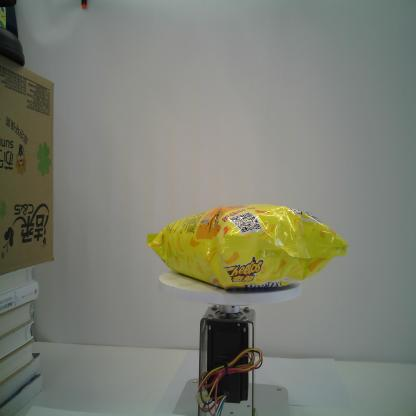Puffed Food: (146, 203, 348, 291)
